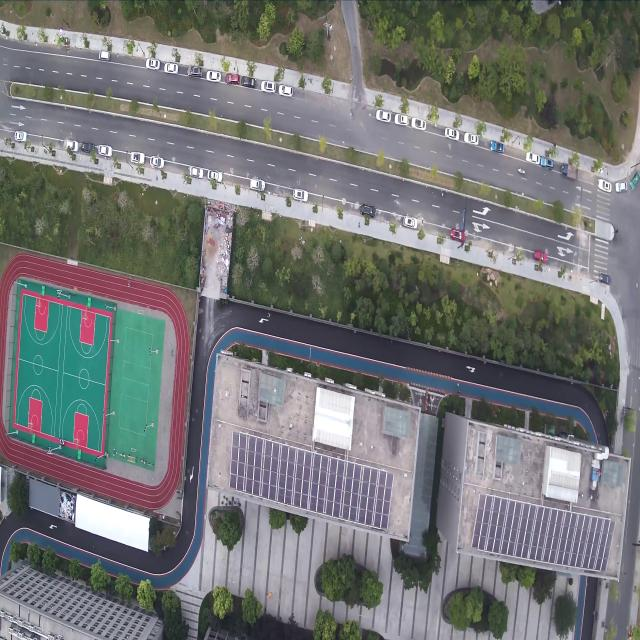drone: (267, 312, 271, 319)
